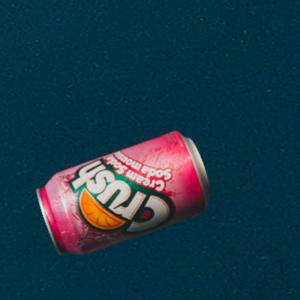can: (37, 131, 211, 255)
